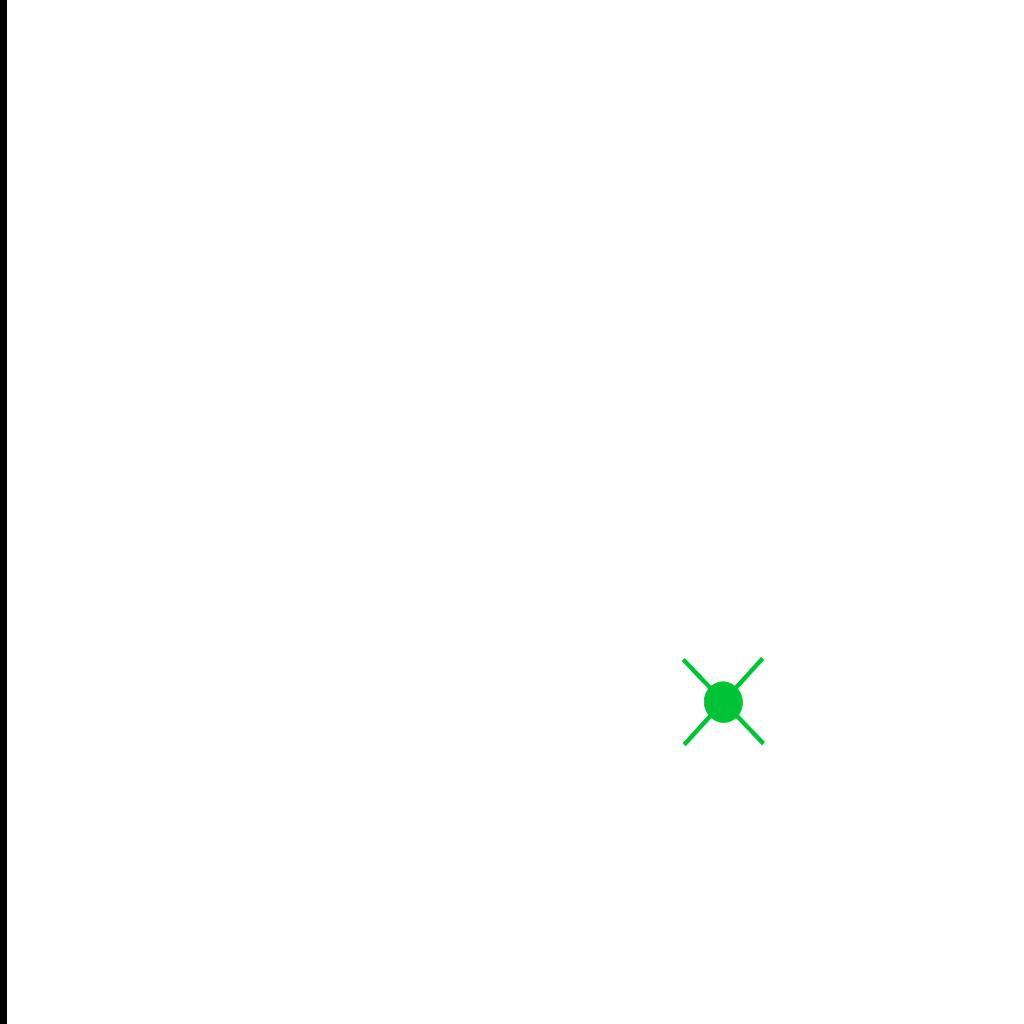Notlichtbaustein_in_Allgemeinbeleuchtug_engebaut_Einbau_(1UG_und_2UG_Aufbauvaria: (673, 652, 776, 752)
